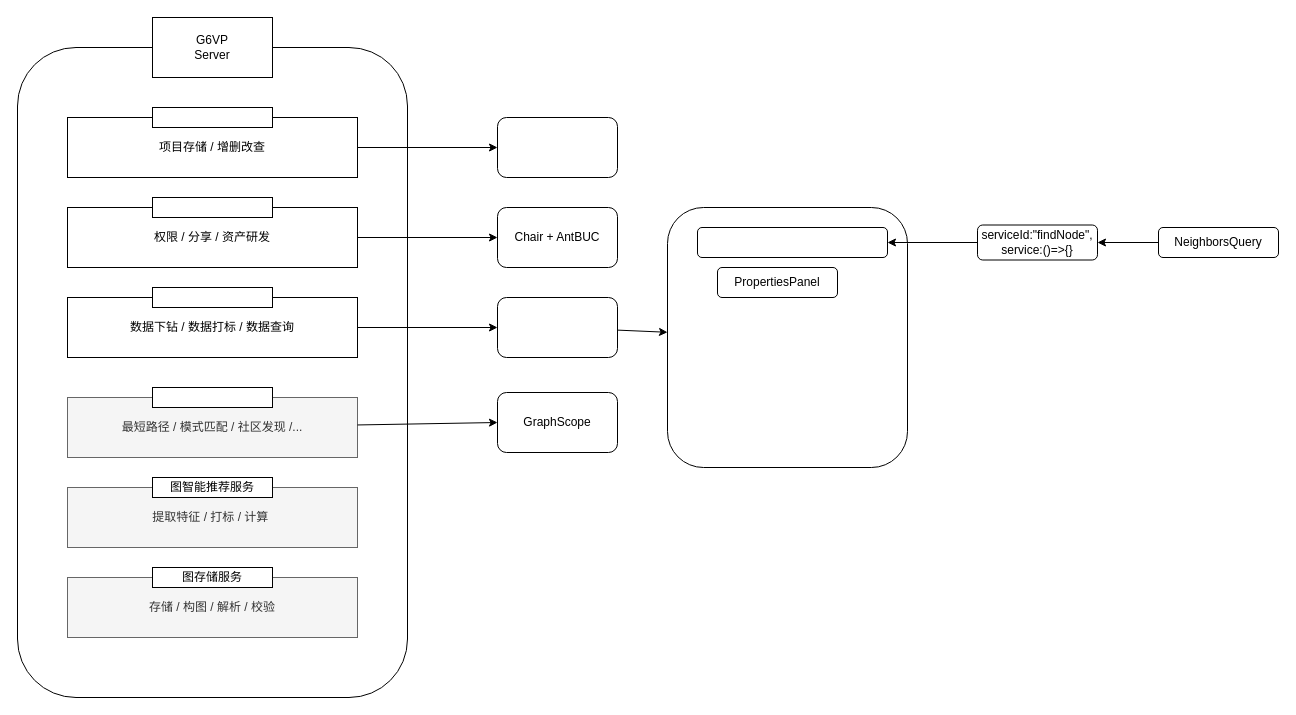
This 1296x715 diagram has some shape labels left out. Here are the shapes that lost their labels. From the top down, the centre of each, then its label:
point 212,117: 对外站点服务
point 557,147: IndexDB
point 212,207: 对内站点服务
point 792,242: api/NeighborsQuery/findNode
point 212,297: 图组件服务
point 557,327: ServerSDK
point 212,397: 图算法服务
